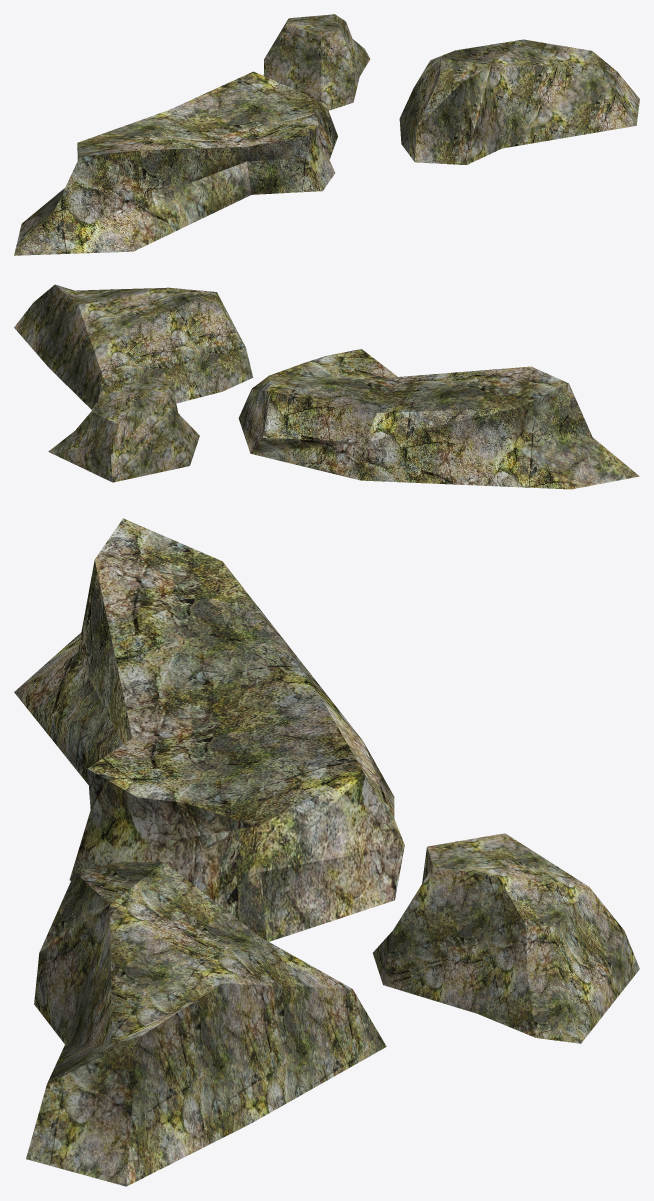
3 renders of one model, top to bottom at view 1: azimuth 30°, elevation 25°; view 2: azimuth 150°, elevation 25°; view 3: azimuth 270°, elevation 25°, orthographic. The views are drawn at different scales.
Visible parts, largest first — view 1: _r_grp2B; view 2: _r_grp2B; view 3: _r_grp2B.
Boxes of the visible parts, x1,y1,x2,y2 form: _r_grp2B: (14, 14, 639, 255); _r_grp2B: (14, 284, 639, 489); _r_grp2B: (14, 518, 639, 1186).
Size of the model in its own units: 27.47 by 3.34 by 12.51.
Materials: 1 (1 with a texture image).
